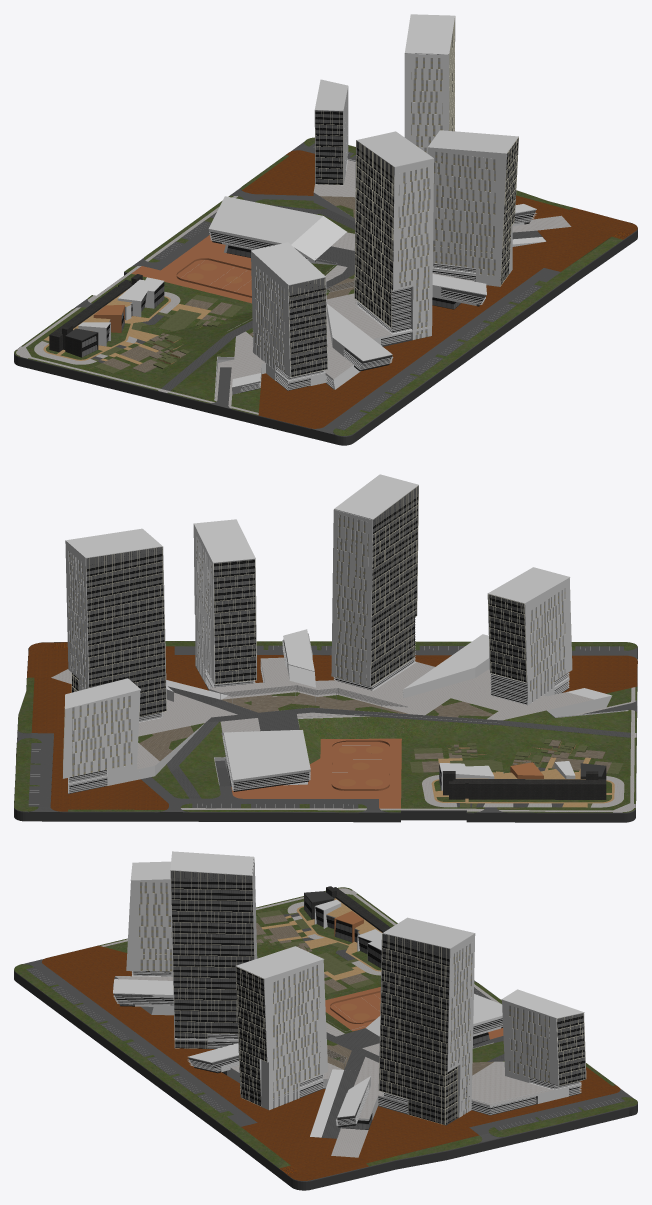
Rendered from OtradaCity_3D.glb.
3 renders of one model, top to bottom at view 1: azimuth 30°, elevation 25°; view 2: azimuth 150°, elevation 25°; view 3: azimuth 270°, elevation 25°, orthographic. The views are drawn at different scales.
Parts seen in each view (by area): view 1: SM_OtradaCity; view 2: SM_OtradaCity; view 3: SM_OtradaCity.
Boxes of the visible parts, x1,y1,x2,y2 form: SM_OtradaCity: [14, 14, 637, 445]; SM_OtradaCity: [14, 474, 637, 822]; SM_OtradaCity: [14, 851, 637, 1190].
Bounding box in the file's own units: 373 × 113 × 337.
20 materials, 11 textured.
